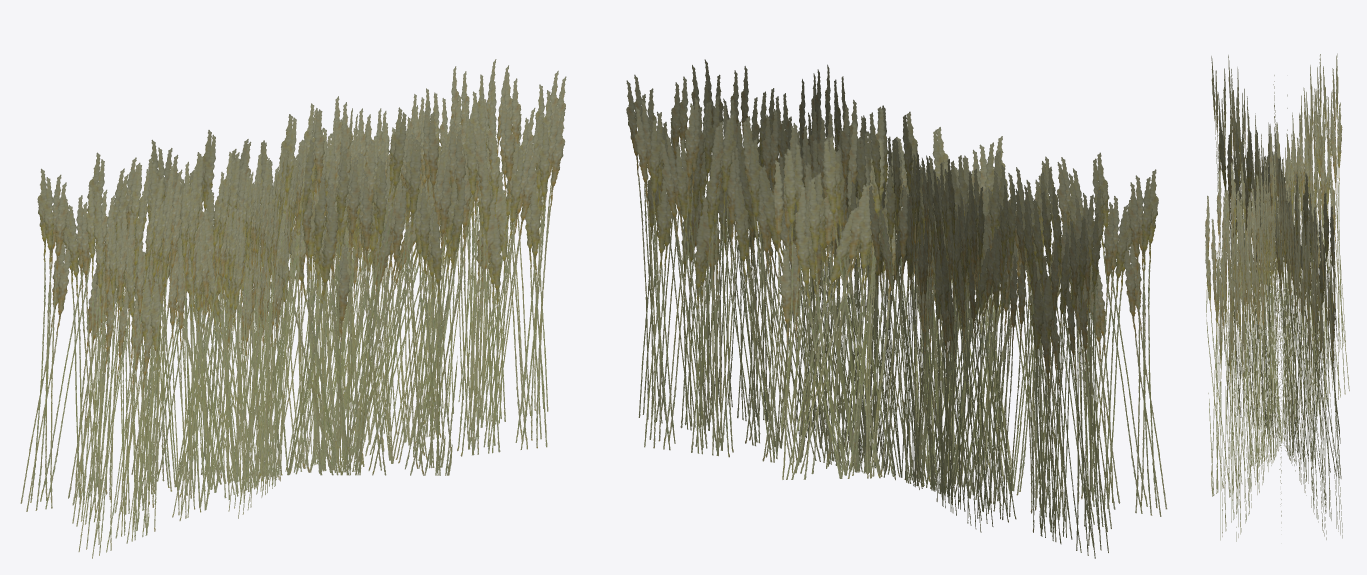
Rendered from WaterGrass_02_03.obj.
3 renders of one model, left to right at view 1: azimuth 30°, elevation 25°; view 2: azimuth 150°, elevation 25°; view 3: azimuth 270°, elevation 25°, orthographic. The views are drawn at different scales.
Visible parts, largest first — view 1: polySurface3; view 2: polySurface3; view 3: polySurface3.
Part boxes in pixels (x1,y1,x2,y2): polySurface3: (20,59,566,558); polySurface3: (626,59,1167,558); polySurface3: (1205,53,1349,541).
Size of the model in its own units: 38.94 by 26.54 by 10.81.
Materials: 1 (1 with a texture image).
